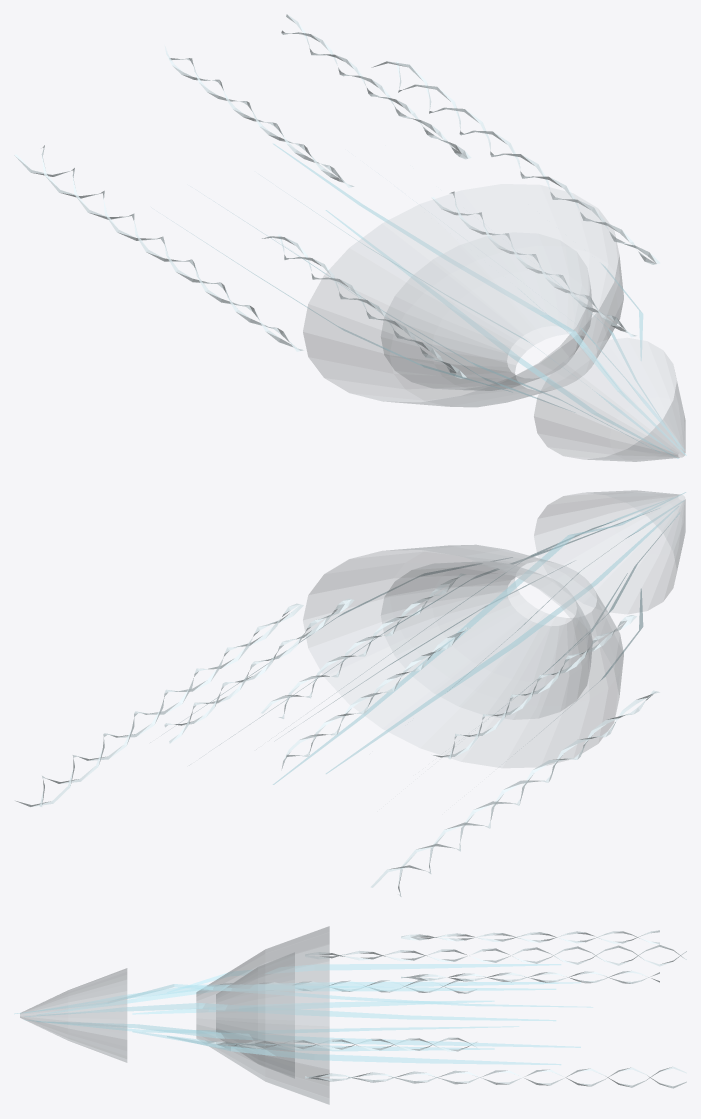
Rendered from player_wind_airflow_vfx.obj.
The picture shows the model from 3 angles, top to bottom: view 1: azimuth 30°, elevation 25°; view 2: azimuth 150°, elevation 25°; view 3: azimuth 270°, elevation 25°; orthographic projection. The views are drawn at different scales.
Visible parts, largest first — view 1: mach_vapor_cone, wingtip_vortices, slipstream_ribbons; view 2: mach_vapor_cone, wingtip_vortices, slipstream_ribbons; view 3: mach_vapor_cone, slipstream_ribbons, wingtip_vortices.
Boxes of the visible parts, box(x1,y1,x2,y2) form: mach_vapor_cone: box(303, 184, 685, 461); wingtip_vortices: box(14, 14, 660, 378); slipstream_ribbons: box(166, 143, 686, 458); mach_vapor_cone: box(303, 490, 685, 767); wingtip_vortices: box(15, 573, 659, 896); slipstream_ribbons: box(180, 492, 685, 784); mach_vapor_cone: box(20, 926, 329, 1104); slipstream_ribbons: box(14, 964, 592, 1065); wingtip_vortices: box(206, 930, 686, 1088).
Bounding box in the file's own units: 12.62 × 6.45 × 27.3.
